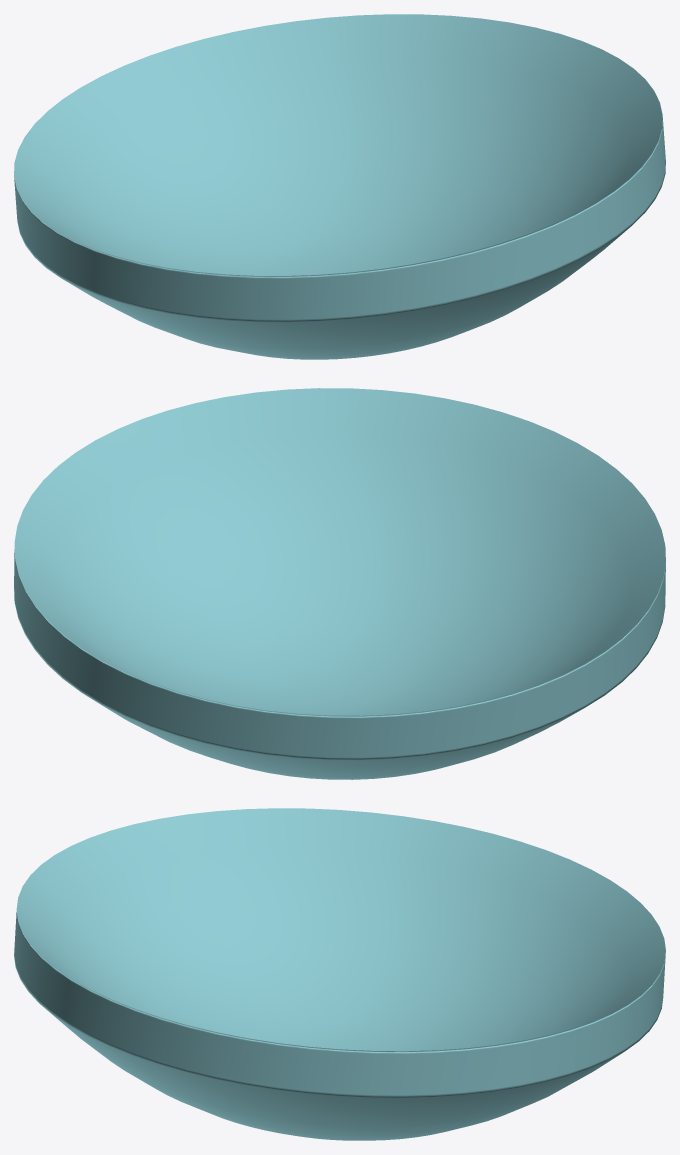
The picture shows the model from 3 angles, top to bottom: view 1: azimuth 30°, elevation 25°; view 2: azimuth 150°, elevation 25°; view 3: azimuth 270°, elevation 25°; orthographic projection.
Visible parts, largest first — view 1: 左侧角膜; view 2: 左侧角膜; view 3: 左侧角膜.
Part boxes in pixels (x1=…): 左侧角膜: x1=14, y1=14, x2=665, y2=359; 左侧角膜: x1=14, y1=388, x2=665, y2=779; 左侧角膜: x1=14, y1=808, x2=665, y2=1140.
Bounding box in the file's own units: 0.0209 × 0.0073 × 0.0209.
